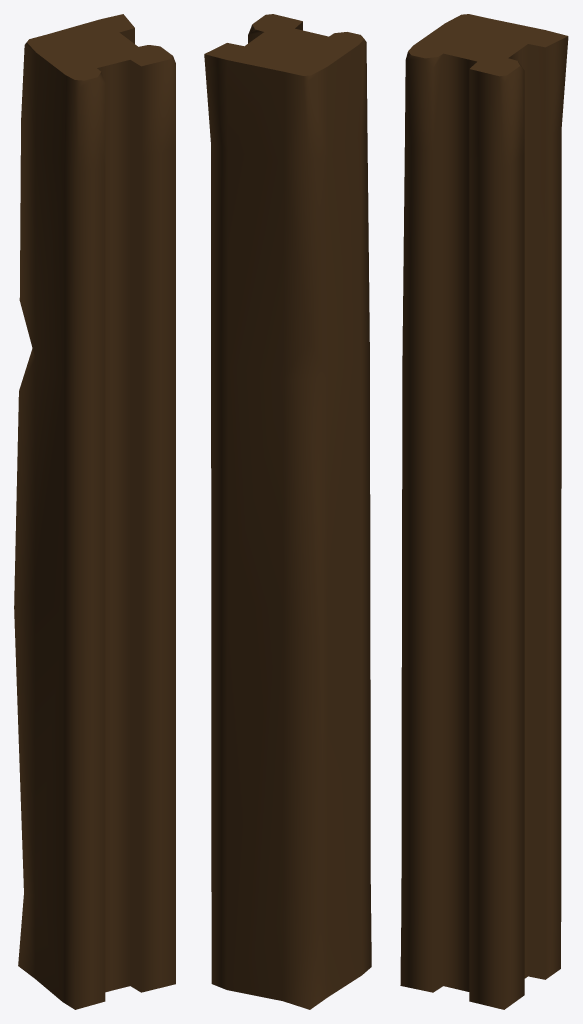
The model's file is Fence_Concrete_pole_b.FBX.
The picture shows the model from 3 angles, left to right: view 1: azimuth 30°, elevation 25°; view 2: azimuth 150°, elevation 25°; view 3: azimuth 330°, elevation 25°; orthographic projection.
Parts seen in each view (by area): view 1: Fence_Concrete_pole_b_LOD0; view 2: Fence_Concrete_pole_b_LOD0; view 3: Fence_Concrete_pole_b_LOD0.
Part boxes in pixels (x1,y1,x2,y2): Fence_Concrete_pole_b_LOD0: (14,14,175,1009); Fence_Concrete_pole_b_LOD0: (204,14,371,1009); Fence_Concrete_pole_b_LOD0: (400,14,568,1009).
Size of what is drawn, in the model's own units: 31.26 by 250 by 29.22.
